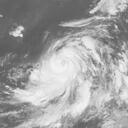cyclone: (34, 38, 97, 101)
